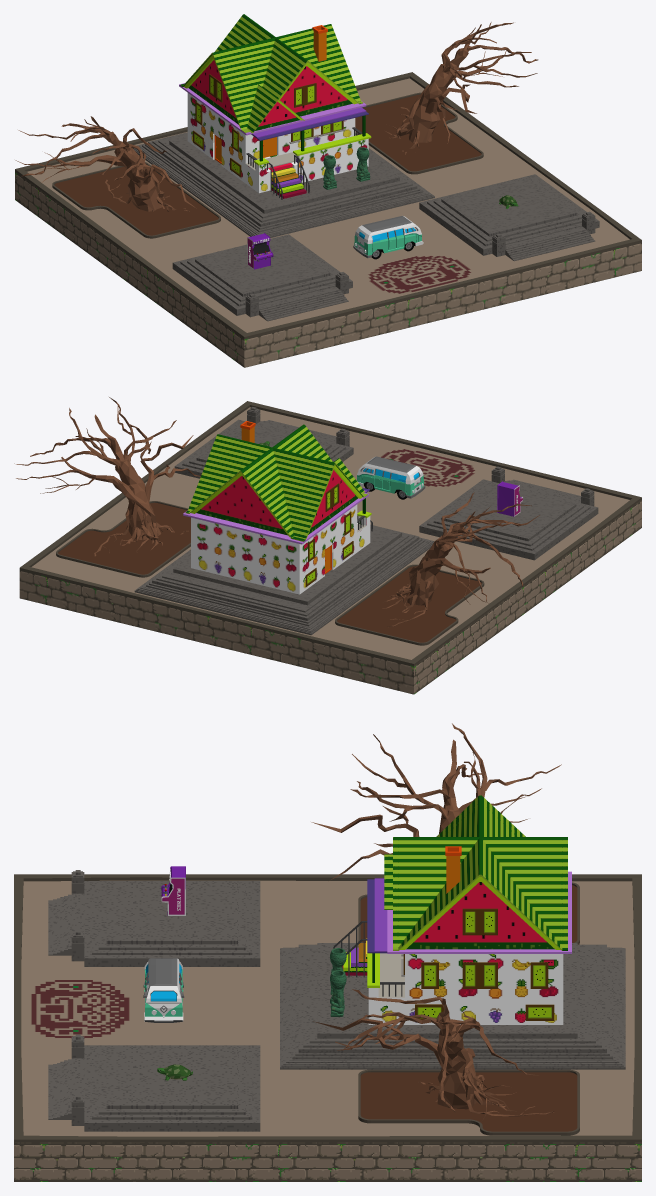
3 renders of one model, top to bottom at view 1: azimuth 30°, elevation 25°; view 2: azimuth 150°, elevation 25°; view 3: azimuth 270°, elevation 25°, orthographic. The views are drawn at different scales.
Visible parts, largest first — view 1: Cube.011, Cube.1063, VEHICLES_VAN, OBJRANDOM_ARCADE; view 2: Cube.011, Cube.1063, VEHICLES_VAN, OBJRANDOM_ARCADE; view 3: Cube.011, Cube.1063, VEHICLES_VAN, OBJRANDOM_ARCADE.
Part boxes in pixels (left/top/right/bottom): Cube.011: left=15, top=22, right=641, bottom=367; Cube.1063: left=179, top=14, right=371, bottom=199; VEHICLES_VAN: left=353, top=215, right=423, bottom=259; OBJRANDOM_ARCADE: left=247, top=233, right=273, bottom=269; Cube.011: left=14, top=397, right=641, bottom=694; Cube.1063: left=183, top=421, right=372, bottom=594; VEHICLES_VAN: left=357, top=456, right=425, bottom=499; OBJRANDOM_ARCADE: left=497, top=481, right=522, bottom=516; Cube.011: left=14, top=723, right=641, bottom=1181; Cube.1063: left=333, top=795, right=571, bottom=1024; VEHICLES_VAN: left=143, top=958, right=184, bottom=1022; OBJRANDOM_ARCADE: left=161, top=866, right=185, bottom=915.
Size of the model in its own units: 5099 by 1638 by 4000.
Materials: 45 (7 with a texture image).
